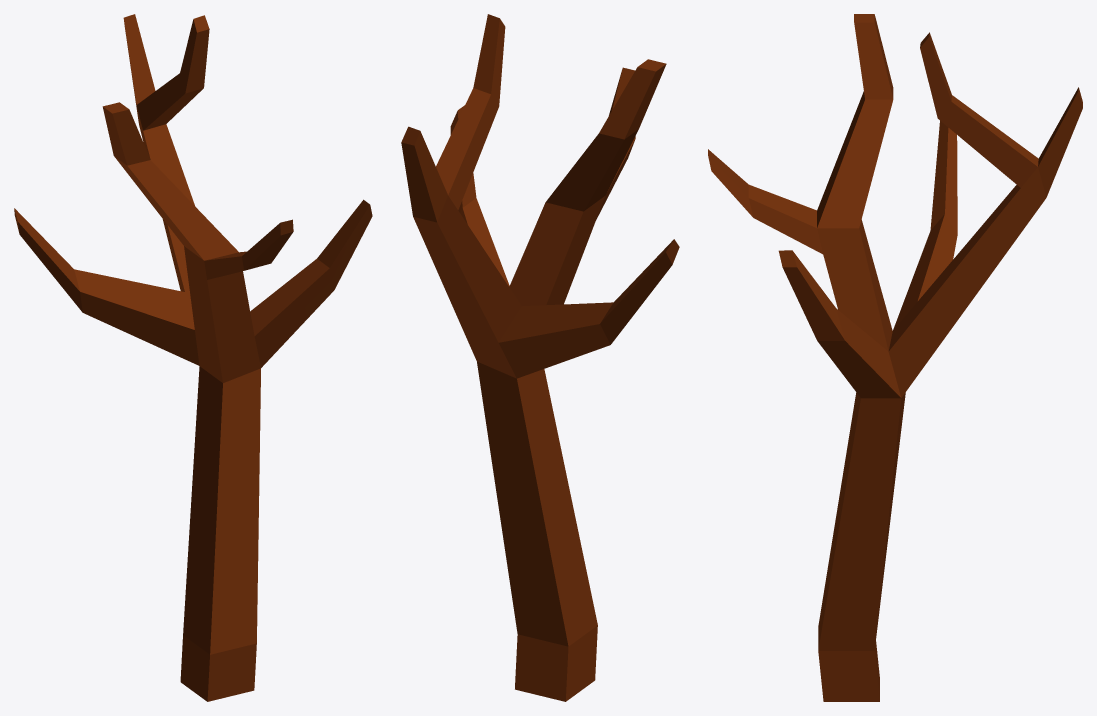
Rendered from Dead_Tree3.fbx.
The picture shows the model from 3 angles, left to right: view 1: azimuth 30°, elevation 25°; view 2: azimuth 150°, elevation 25°; view 3: azimuth 270°, elevation 25°; orthographic projection. The views are drawn at different scales.
Parts seen in each view (by area): view 1: Cube; view 2: Cube; view 3: Cube.
Part boxes in pixels (x1,y1,x2,y2): Cube: (14,14,372,701); Cube: (401,14,679,701); Cube: (708,14,1082,701).
Bounding box in the file's own units: 230 × 503 × 257.
